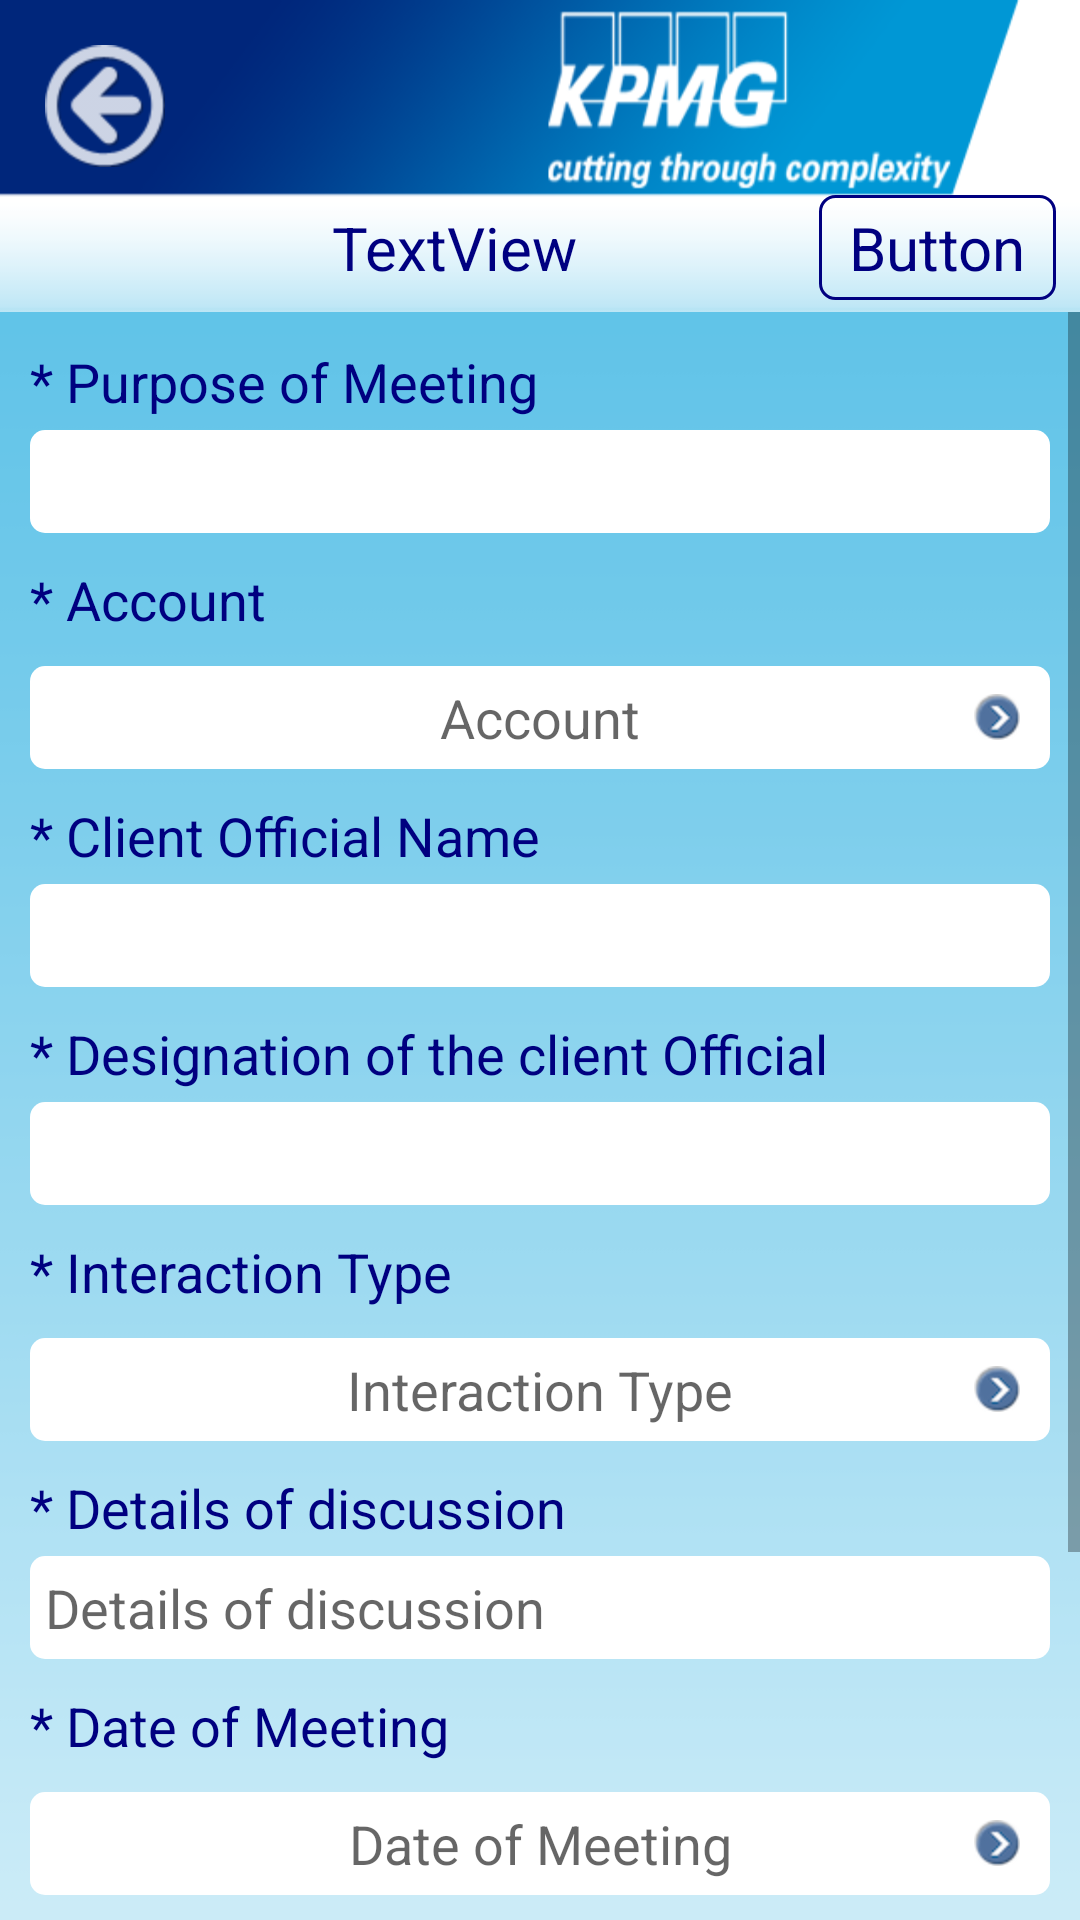

Locate icon controls on the screen. Image size 1080 × 1920, boxes as (x1,y1,x2,y2).
back: (45,45,165,167)
